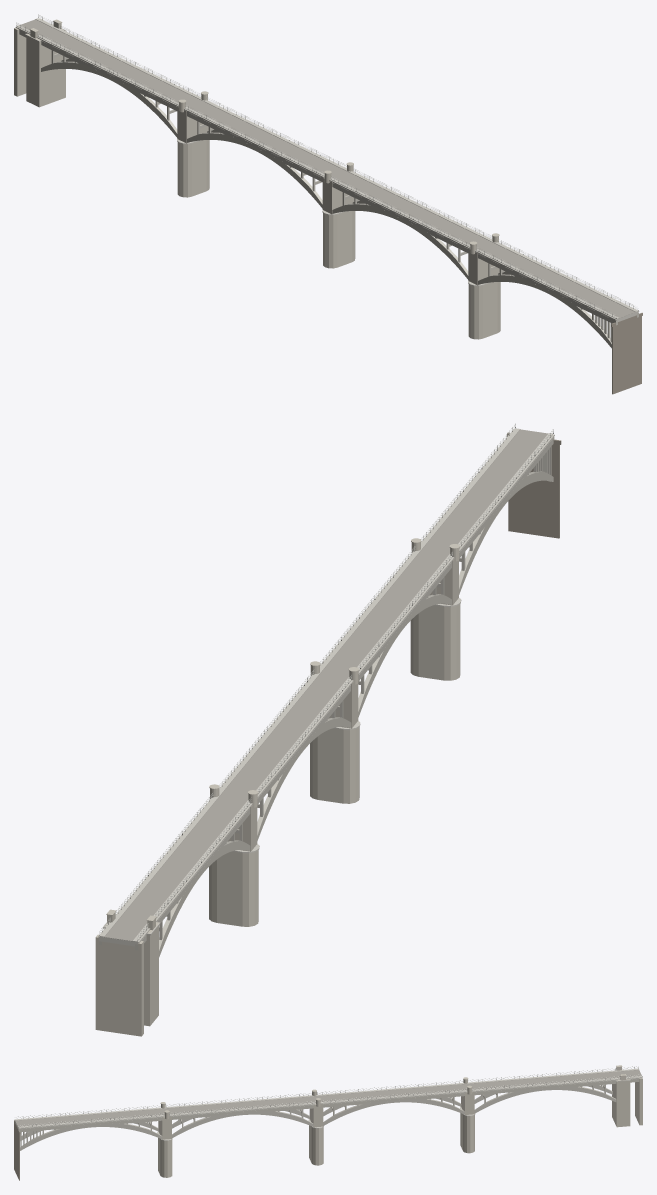
The model's file is puente_ebro.glb.
The picture shows the model from 3 angles, top to bottom: view 1: azimuth 30°, elevation 25°; view 2: azimuth 150°, elevation 25°; view 3: azimuth 270°, elevation 25°; orthographic projection. The views are drawn at different scales.
Parts seen in each view (by area): view 1: PE_Calzada, PE_Viga_borde_O, PE_Estribo_Sur_Cuerpo, PE_Estribo_Norte, PE_Acera_E, PE_Acera_O, PE_Pila_01_Tambor, PE_Pila_03_Tambor, PE_Pila_02_Tambor, PE_Imposta_O, PE_Tubos_pasamanos_E, PE_Tubos_pasamanos_O (+10 smaller); view 2: PE_Calzada, PE_Machon_Norte, PE_Pila_03_Tambor, PE_Pila_02_Tambor, PE_Pila_01_Tambor, PE_Acera_E, PE_Estribo_Sur_Cuerpo, PE_Acera_O, PE_Viga_borde_O, PE_Imposta_O, PE_Tubos_pasamanos_E, PE_Tubos_pasamanos_O (+6 smaller); view 3: PE_Calzada, PE_Viga_borde_E, PE_Acera_O, PE_Acera_E, PE_Imposta_E, PE_Arco_02_Nervios, PE_Arco_03_Nervios, PE_Arco_01_Nervios, PE_Arco_04_Nervios, PE_Estribo_Norte, PE_Tubos_pasamanos_O, PE_Tubos_pasamanos_E (+11 smaller).
Boxes of the visible parts, x1,y1,x2,y2 form: PE_Calzada: (20,19,635,318); PE_Viga_borde_O: (19,30,617,325); PE_Estribo_Sur_Cuerpo: (612,313,641,394); PE_Estribo_Norte: (26,29,65,107); PE_Acera_E: (35,18,637,311); PE_Acera_O: (16,25,618,318); PE_Pila_01_Tambor: (177,140,209,197); PE_Pila_03_Tambor: (468,282,500,339); PE_Pila_02_Tambor: (323,211,355,268); PE_Imposta_O: (15,26,616,320); PE_Tubos_pasamanos_E: (38,14,637,309); PE_Tubos_pasamanos_O: (16,23,616,317); PE_Calzada: (104,429,547,941); PE_Machon_Norte: (95,934,143,1036); PE_Pila_03_Tambor: (410,604,460,680); PE_Pila_02_Tambor: (310,727,359,803); PE_Pila_01_Tambor: (209,850,258,926); PE_Acera_E: (100,428,520,937); PE_Estribo_Sur_Cuerpo: (508,433,559,538); PE_Acera_O: (132,433,552,941); PE_Viga_borde_O: (135,437,554,950); PE_Imposta_O: (135,434,554,943); PE_Tubos_pasamanos_E: (100,424,515,933); PE_Tubos_pasamanos_O: (137,429,552,939); PE_Calzada: (15,1070,641,1126); PE_Viga_borde_E: (18,1079,639,1132); PE_Acera_O: (15,1068,639,1120); PE_Acera_E: (18,1076,642,1127); PE_Imposta_E: (18,1077,642,1128); PE_Arco_02_Nervios: (323,1097,464,1125); PE_Arco_03_Nervios: (172,1109,313,1138); PE_Arco_01_Nervios: (474,1085,616,1113); PE_Arco_04_Nervios: (20,1122,162,1150); PE_Estribo_Norte: (612,1079,630,1127); PE_Tubos_pasamanos_O: (15,1066,638,1118); PE_Tubos_pasamanos_E: (19,1074,642,1126).
Bounding box in the file's own units: 62.34 × 30.71 × 268.
2 materials, 2 textured.
